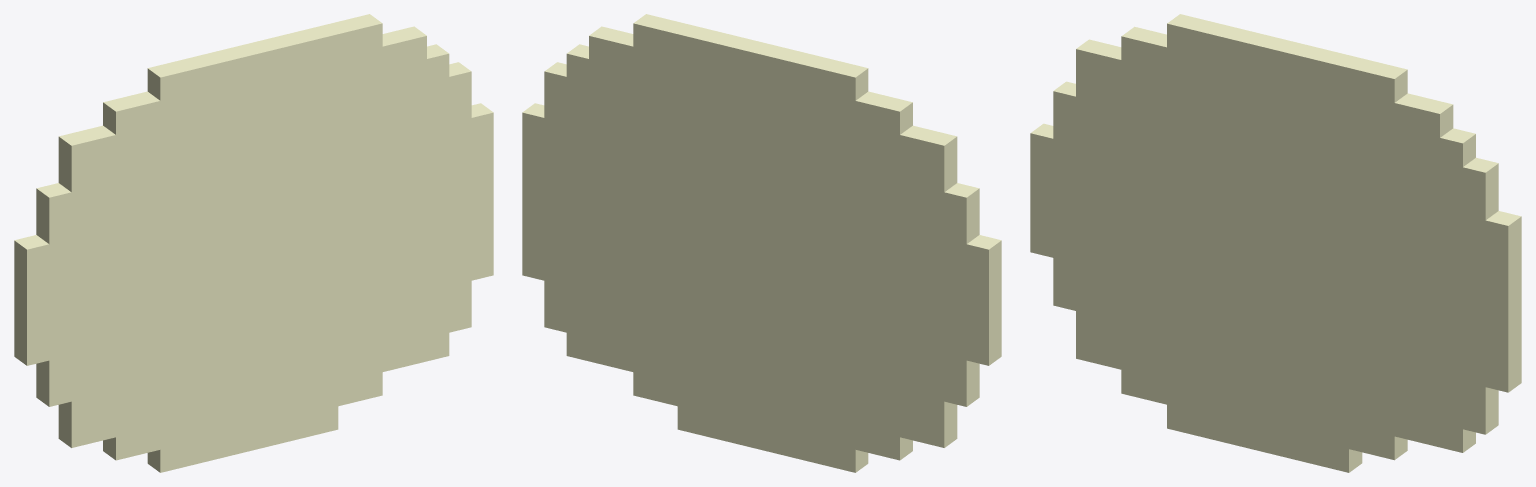
Rendered from Fight_748_2_06_fx.obj.
3 views of the same model, side by side, from view 1: azimuth 30°, elevation 25°; view 2: azimuth 150°, elevation 25°; view 3: azimuth 330°, elevation 25° (orthographic). The views are drawn at different scales.
Size of the model in its own units: 2.1 by 1.7 by 0.1.
1 material, 1 textured.
